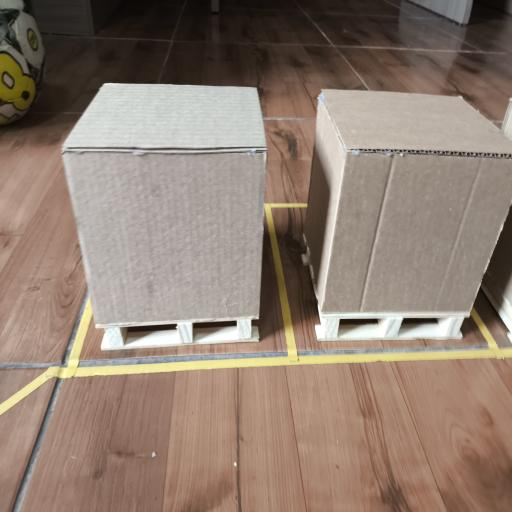pallet: (316, 308, 465, 341), (101, 319, 259, 350), (481, 274, 511, 341)
